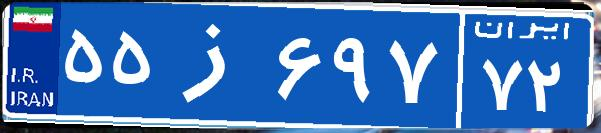2: (525, 38, 570, 115)
5: (57, 26, 110, 107), (110, 28, 158, 105)
6: (273, 28, 330, 110)
7: (385, 28, 445, 110), (475, 38, 525, 113)
9: (330, 28, 385, 110)
ز: (158, 15, 273, 115)
